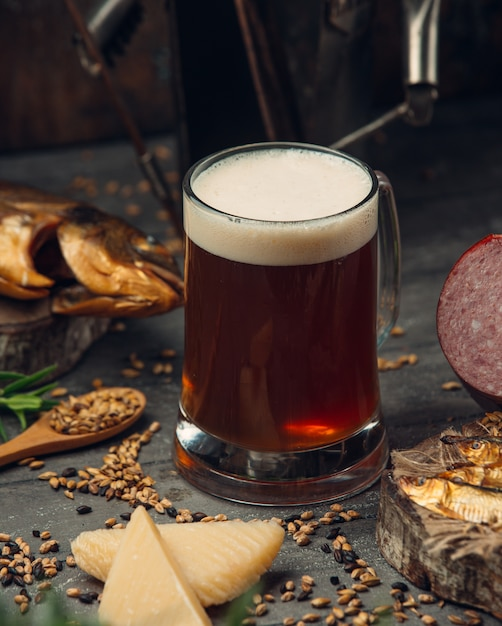alcohol: (172, 140, 406, 511)
